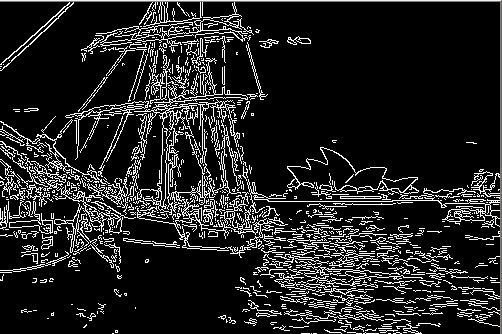opera house: (273, 137, 425, 203)
